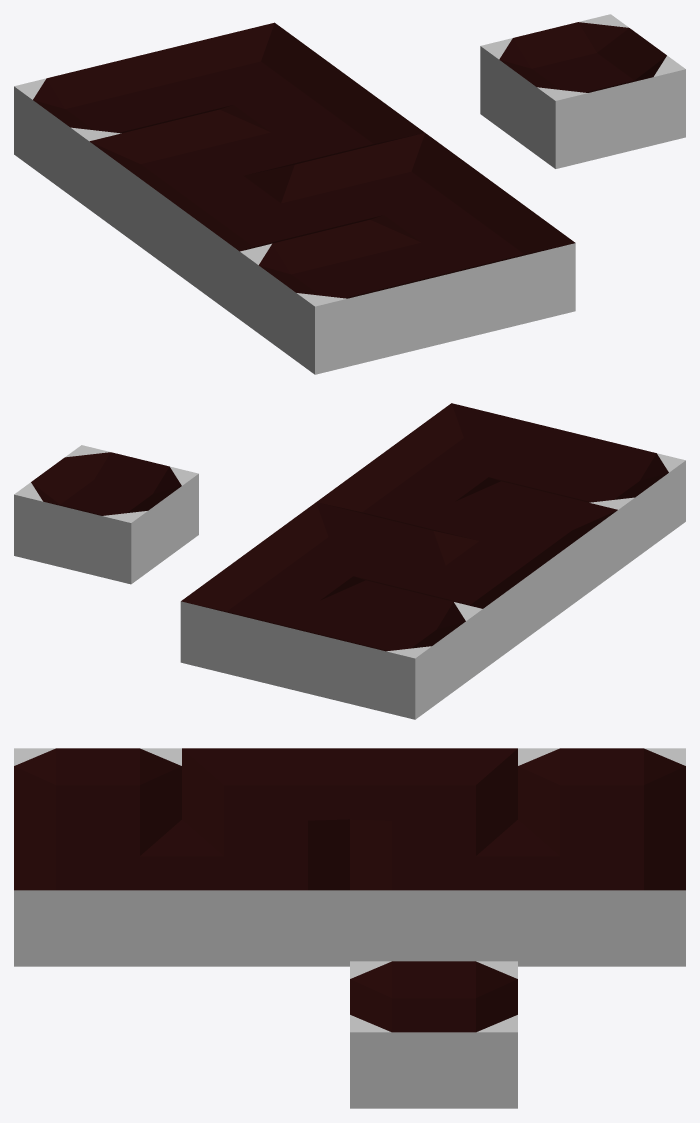
File: 70f_path.obj
The picture shows the model from 3 angles, top to bottom: view 1: azimuth 30°, elevation 25°; view 2: azimuth 150°, elevation 25°; view 3: azimuth 270°, elevation 25°; orthographic projection. The views are drawn at different scales.
Parts seen in each view (by area): view 1: foil.hole.3.2_Cube.291, foil.ending.0.0_ending.579, foil.corner.1.0_corner.1438, foil.corner.0.2_corner.1437, foil.ending.0.3_ending.580, foil.corner.1.1_corner.1439, foil.corner.1.3_corner.1441, foil.corner.0.1_corner.1436, foil.corner.1.2_corner.1440; view 2: foil.hole.3.2_Cube.291, foil.ending.0.3_ending.580, foil.corner.1.3_corner.1441, foil.corner.0.1_corner.1436, foil.ending.0.0_ending.579, foil.corner.1.0_corner.1438, foil.corner.1.2_corner.1440, foil.corner.0.2_corner.1437, foil.corner.1.1_corner.1439; view 3: foil.hole.3.2_Cube.291, foil.corner.1.0_corner.1438, foil.corner.1.1_corner.1439, foil.corner.1.3_corner.1441, foil.corner.1.2_corner.1440, foil.ending.0.0_ending.579, foil.corner.0.1_corner.1436, foil.corner.0.2_corner.1437, foil.ending.0.3_ending.580.
Part boxes in pixels (x1=…): foil.hole.3.2_Cube.291: x1=480, y1=14, x2=685, y2=168; foil.ending.0.0_ending.579: x1=239, y1=220, x2=445, y2=374; foil.corner.1.0_corner.1438: x1=370, y1=188, x2=575, y2=342; foil.corner.0.2_corner.1437: x1=89, y1=109, x2=294, y2=264; foil.ending.0.3_ending.580: x1=14, y1=54, x2=218, y2=209; foil.corner.1.1_corner.1439: x1=295, y1=133, x2=499, y2=228; foil.corner.1.3_corner.1441: x1=144, y1=22, x2=349, y2=118; foil.corner.0.1_corner.1436: x1=164, y1=165, x2=366, y2=319; foil.corner.1.2_corner.1440: x1=220, y1=78, x2=424, y2=167; foil.hole.3.2_Cube.291: x1=14, y1=445, x2=198, y2=584; foil.ending.0.3_ending.580: x1=298, y1=580, x2=482, y2=719; foil.corner.1.3_corner.1441: x1=180, y1=552, x2=365, y2=690; foil.corner.0.1_corner.1436: x1=434, y1=481, x2=618, y2=620; foil.ending.0.0_ending.579: x1=503, y1=432, x2=685, y2=570; foil.corner.1.0_corner.1438: x1=384, y1=403, x2=568, y2=489; foil.corner.1.2_corner.1440: x1=249, y1=502, x2=432, y2=588; foil.corner.0.2_corner.1437: x1=369, y1=531, x2=550, y2=669; foil.corner.1.1_corner.1439: x1=316, y1=453, x2=500, y2=533; foil.hole.3.2_Cube.291: x1=350, y1=961, x2=517, y2=1108; foil.corner.1.0_corner.1438: x1=14, y1=819, x2=181, y2=966; foil.corner.1.1_corner.1439: x1=182, y1=819, x2=349, y2=966; foil.corner.1.3_corner.1441: x1=518, y1=819, x2=685, y2=966; foil.corner.1.2_corner.1440: x1=350, y1=819, x2=517, y2=961; foil.ending.0.0_ending.579: x1=14, y1=748, x2=181, y2=838; foil.corner.0.1_corner.1436: x1=182, y1=748, x2=349, y2=838; foil.corner.0.2_corner.1437: x1=350, y1=748, x2=517, y2=838; foil.ending.0.3_ending.580: x1=518, y1=748, x2=685, y2=838.
Bounding box in the file's own units: 8 × 1 × 8.
